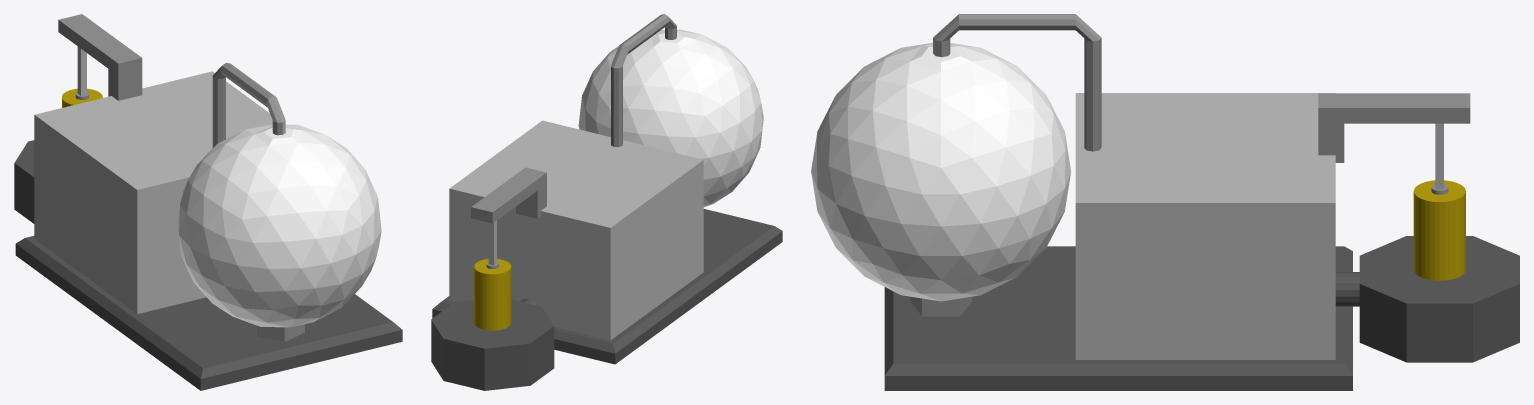
The model's file is water extractor.fbx.
3 renders of one model, left to right at view 1: azimuth 30°, elevation 25°; view 2: azimuth 150°, elevation 25°; view 3: azimuth 270°, elevation 25°, orthographic. The views are drawn at different scales.
Parts seen in each view (by area): view 1: Cube, Icosphere, Cylinder, Cylinder.001, Cube.001; view 2: Cube, Icosphere, Cylinder, Cylinder.001, Cube.001; view 3: Cube, Icosphere, Cylinder, Cylinder.001.
Boxes of the visible parts, x1,y1,x2,y2 form: Cube: (15,14,402,390); Icosphere: (177,124,381,341); Cylinder: (14,140,34,223); Cylinder.001: (62,88,102,107); Cube.001: (77,46,86,95); Cube: (432,14,782,364); Icosphere: (578,29,763,207); Cylinder: (431,298,554,390); Cylinder.001: (474,259,511,330); Cube.001: (488,220,496,265); Cube: (884,14,1470,390); Icosphere: (811,42,1071,316); Cylinder: (1335,236,1519,362); Cylinder.001: (1413,180,1465,280).
Bounding box in the file's own units: 340 × 405 × 817.
